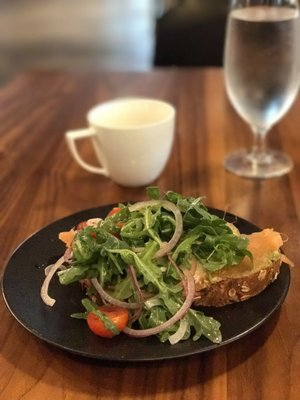pizza: (64, 94, 177, 189)
